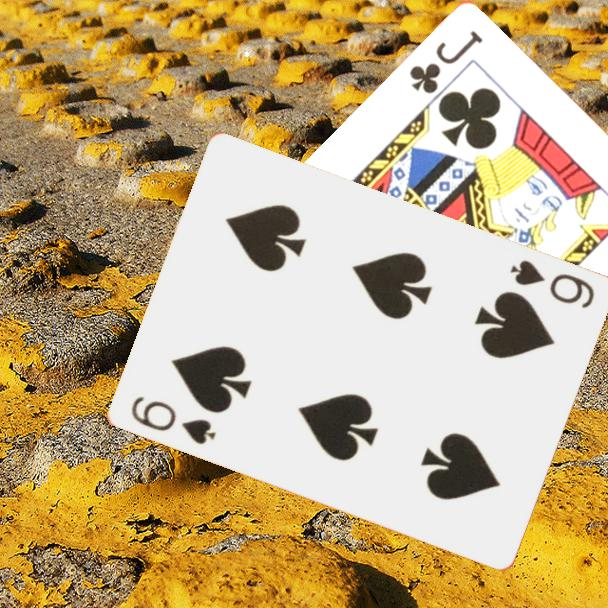c11: (405, 26, 486, 97)
s06: (126, 393, 219, 448), (506, 256, 597, 312)
